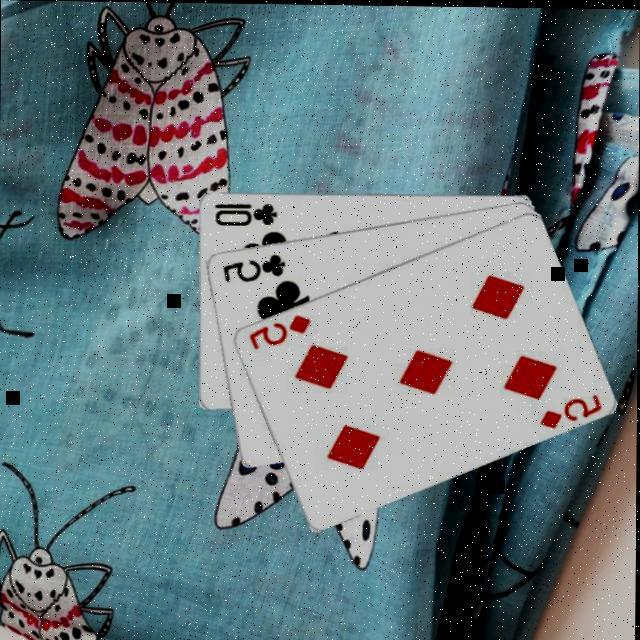10C: (210, 196, 278, 228)
5C: (218, 248, 286, 284)
5D: (535, 386, 603, 430), (243, 308, 311, 351)
